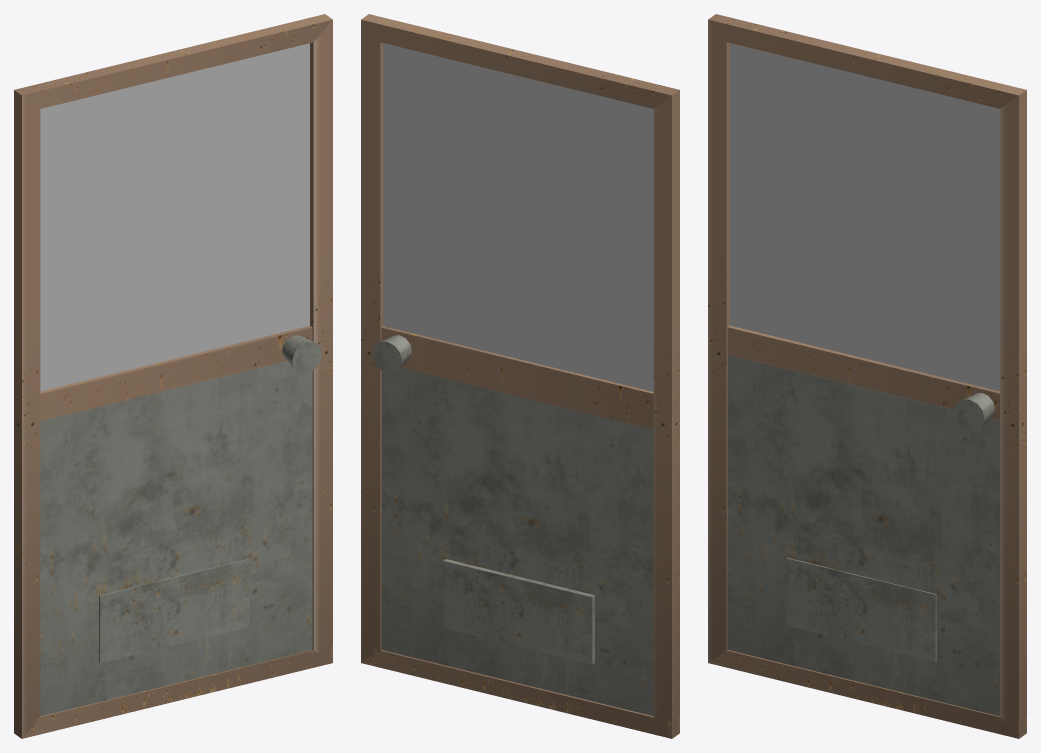
Rendered from shopf_mart_door3.fbx.
3 renders of one model, left to right at view 1: azimuth 30°, elevation 25°; view 2: azimuth 150°, elevation 25°; view 3: azimuth 330°, elevation 25°, orthographic.
Parts seen in each view (by area): view 1: spf_mart_door3; view 2: spf_mart_door3; view 3: spf_mart_door3.
Boxes of the visible parts, <box> form: spf_mart_door3: <box>14,14,332,738</box>; spf_mart_door3: <box>361,14,679,738</box>; spf_mart_door3: <box>708,14,1026,738</box>.
Size of the model in its own units: 112 by 222 by 19.65.
